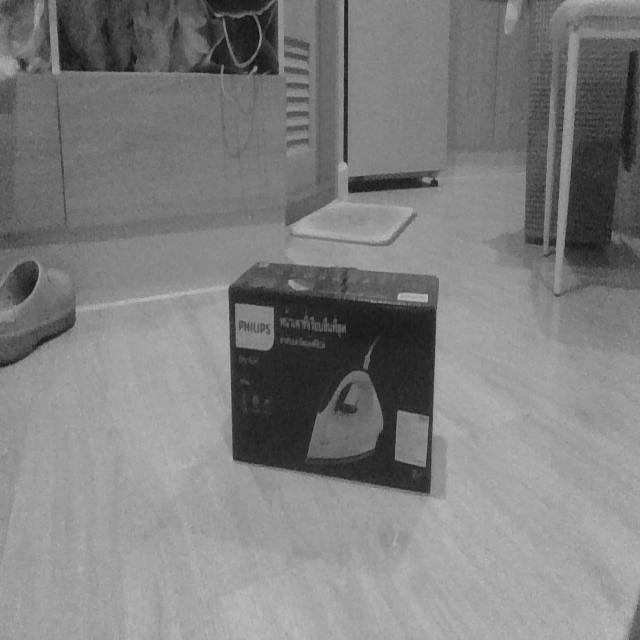IRON: (226, 257, 442, 499)
